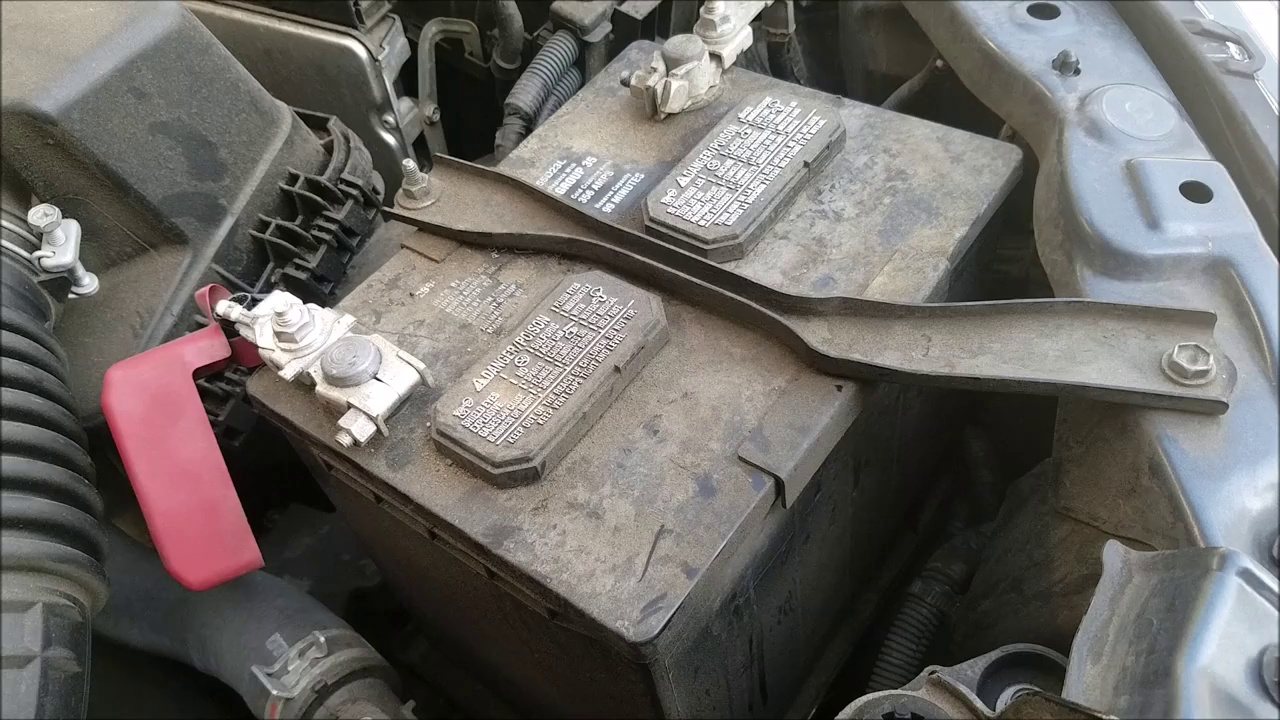battery: (206, 32, 1015, 580)
neg_connected: (584, 1, 825, 128)
pos_connected: (111, 254, 416, 496)
